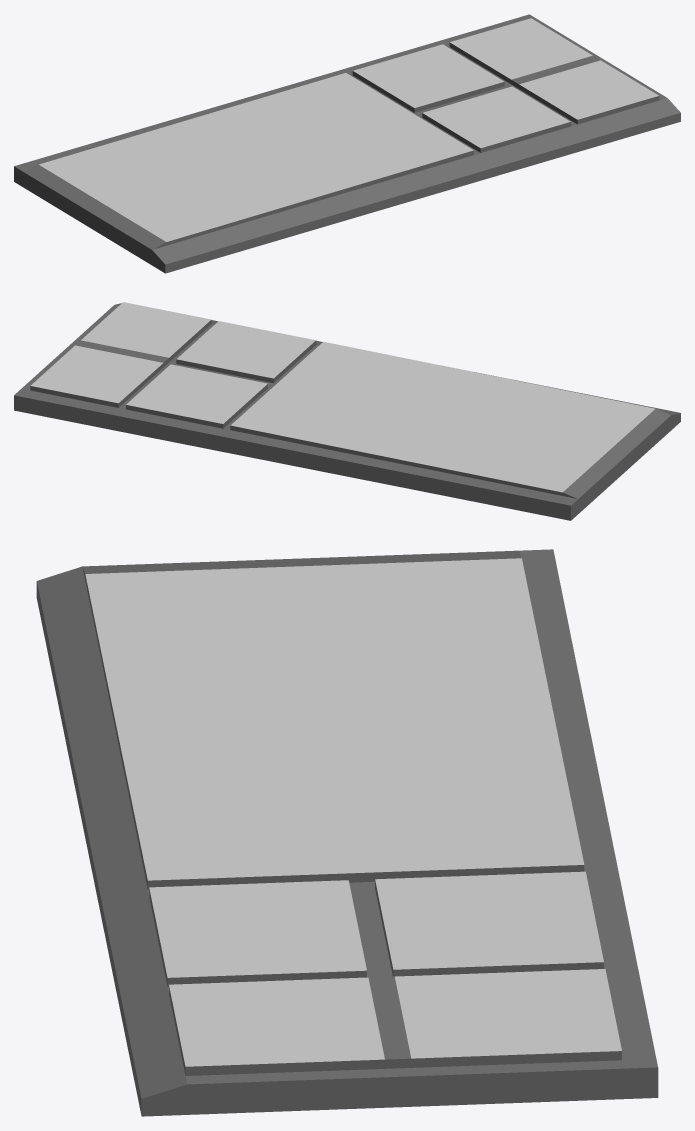
The model's file is Keyboard.fbx.
The picture shows the model from 3 angles, top to bottom: view 1: azimuth 30°, elevation 25°; view 2: azimuth 150°, elevation 25°; view 3: azimuth 270°, elevation 25°; orthographic projection. The views are drawn at different scales.
Parts seen in each view (by area): view 1: Keyboard; view 2: Keyboard; view 3: Keyboard.
Part boxes in pixels (x1,y1,x2,y2): Keyboard: [14, 14, 680, 273]; Keyboard: [14, 302, 680, 520]; Keyboard: [36, 549, 658, 1116].
Size of the model in its own units: 136 by 4.68 by 66.31.
